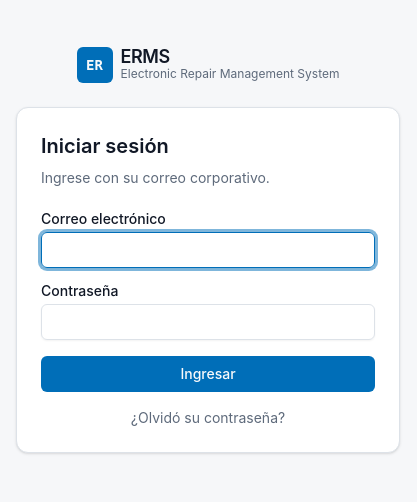
Test: LoginPage › shows the message returned by the API
Type "supervisor@example.com" into the field labelled "Correo electrónico" at x=208, y=250, box left=41, top=232, right=375, bottom=268
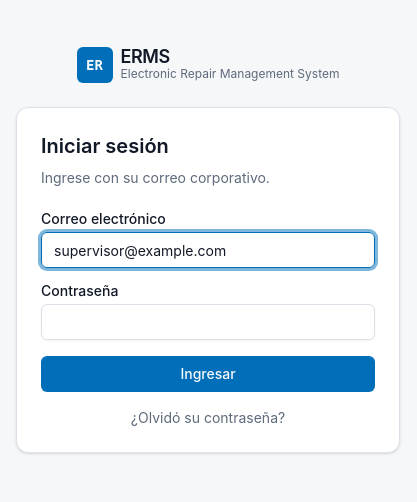
Type "mala" into the password field labelled "Contraseña" at x=208, y=322, box left=41, top=304, right=375, bottom=340
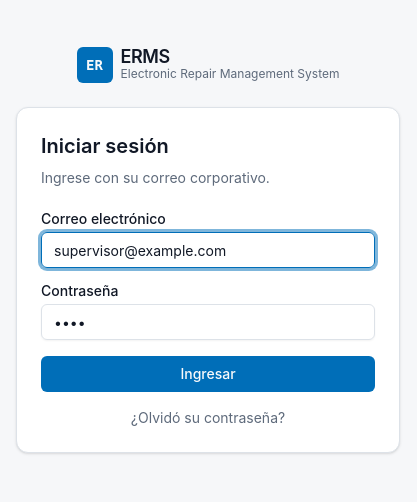
Click the button "Ingresar" at x=208, y=374, box left=41, top=356, right=375, bottom=392
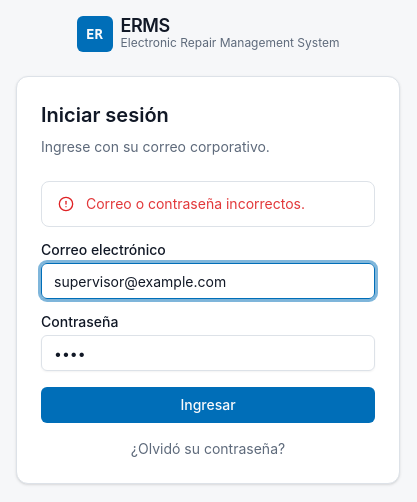
Now the text "Correo o contraseña incorrectos." is shown, box left=86, top=195, right=305, bottom=212
